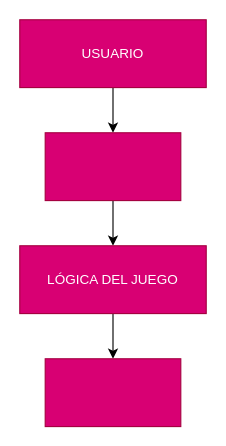
This 226x446 diagram has some shape labels left out. The centre of each missing label's shape, as x and y in pixels:
"INTERFAZ DE USUARIO" belongs at point (112, 166).
"MÓDULO DE ADIVINANZA" belongs at point (112, 392).
